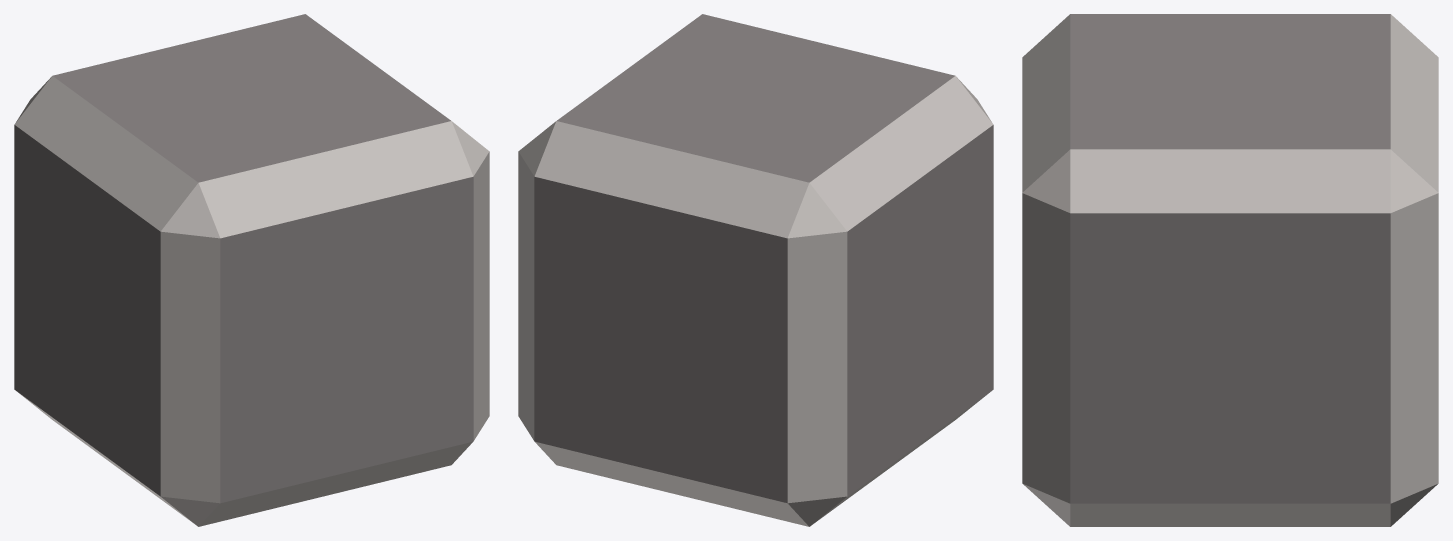
Rendered from Rock.fbx.
3 renders of one model, left to right at view 1: azimuth 30°, elevation 25°; view 2: azimuth 150°, elevation 25°; view 3: azimuth 270°, elevation 25°, orthographic. The views are drawn at different scales.
Visible parts, largest first — view 1: Rock_part; view 2: Rock_part; view 3: Rock_part.
Part boxes in pixels (left/top/right/bottom): Rock_part: left=14, top=14, right=489, bottom=526; Rock_part: left=518, top=14, right=993, bottom=526; Rock_part: left=1022, top=14, right=1438, bottom=526.
Bounding box in the file's own units: 0.3693 × 0.3693 × 0.3693.
Materials: 1 (1 with a texture image).
